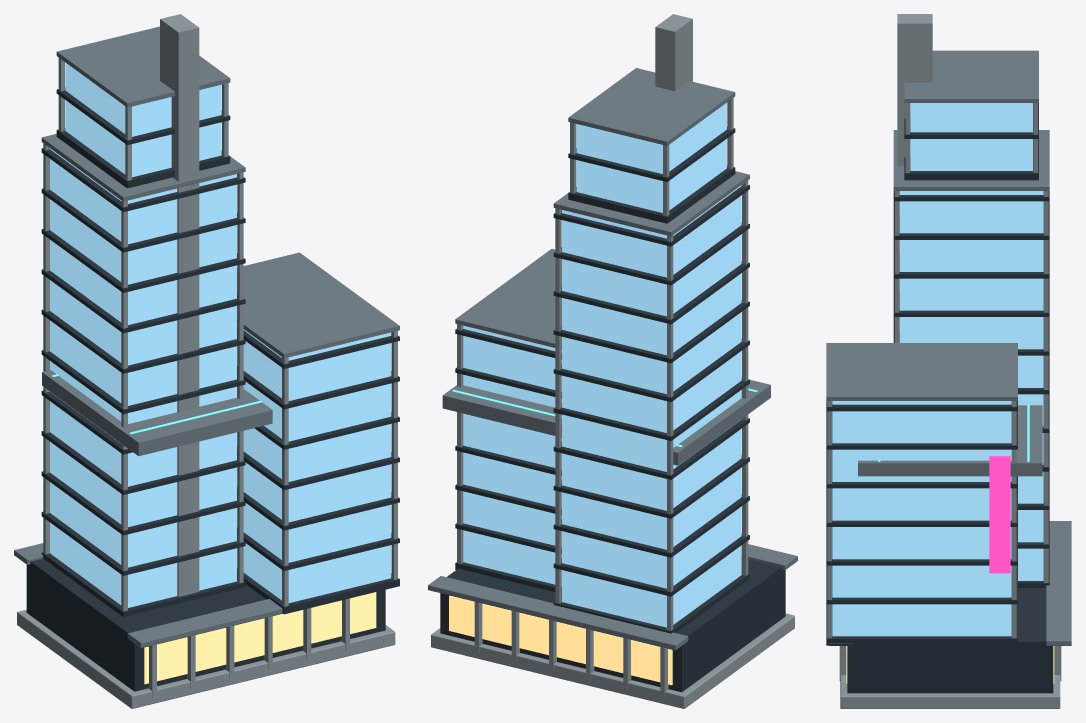
The model's file is vrx_city_exchange_b_LOD0.fbx.
3 views of the same model, side by side, from view 1: azimuth 30°, elevation 25°; view 2: azimuth 150°, elevation 25°; view 3: azimuth 270°, elevation 25° (orthographic). The views are drawn at different scales.
Visible parts, largest first — view 1: vrx_city_exchange_b_LOD0; view 2: vrx_city_exchange_b_LOD0; view 3: vrx_city_exchange_b_LOD0.
Part boxes in pixels (x1,y1,x2,y2): vrx_city_exchange_b_LOD0: [14, 14, 399, 708]; vrx_city_exchange_b_LOD0: [428, 14, 797, 708]; vrx_city_exchange_b_LOD0: [826, 14, 1071, 708].
Bounding box in the file's own units: 41 × 94.5 × 34.6.
